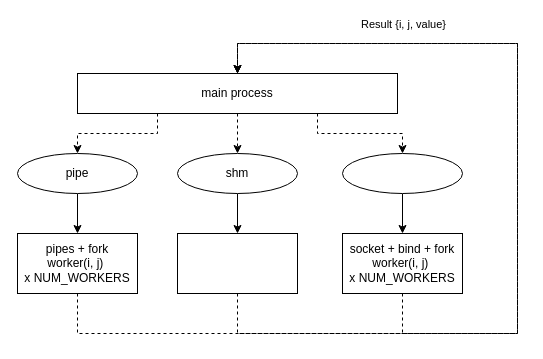
Image size: 543x359. Some labels were removed from this diagram. Here are the shapes that lost their labels. From the top down, the centre of each, then its label:
At point 402,173: "socket".
At point 237,263: "shm + mmap + fork worker(i, j) x NUM_WORKERS".
